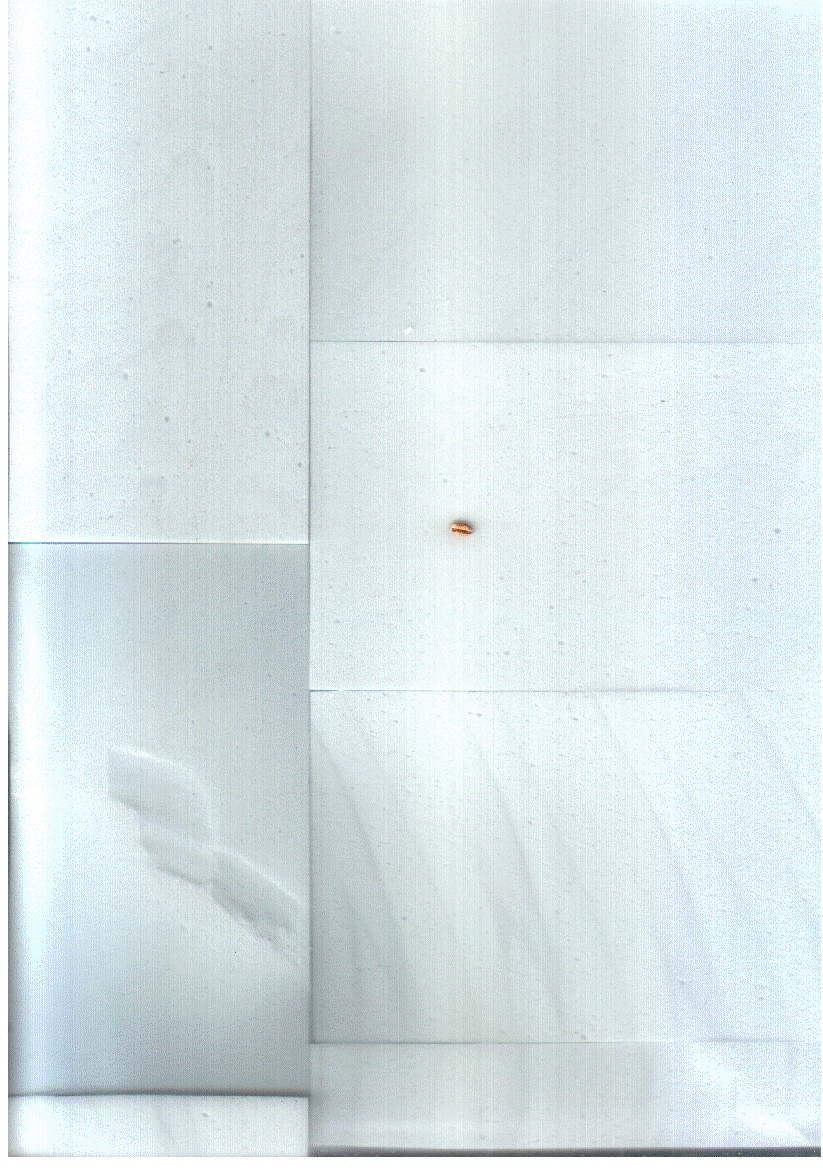grains: (441, 496, 483, 553)
